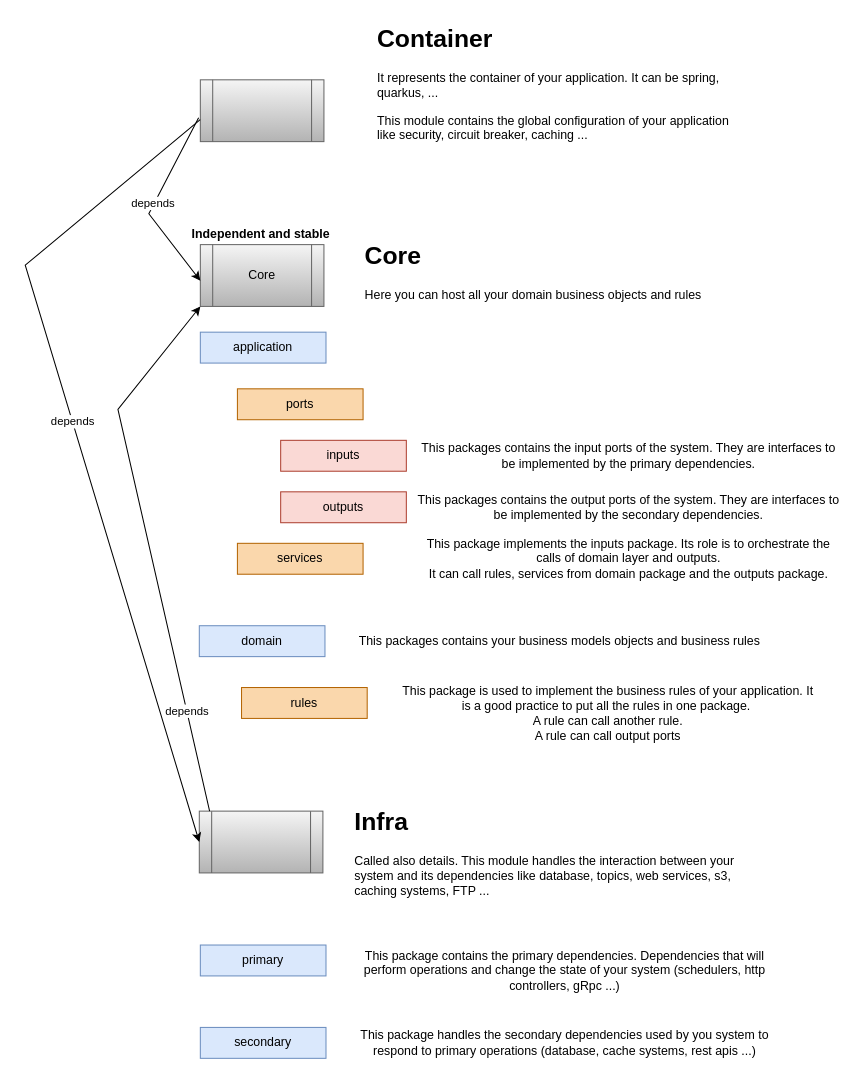
This 859x1076 diagram has some shape labels left out. Each missing label, with the centre of its shape:
Container: point (261, 110)
Infra: point (260, 841)
